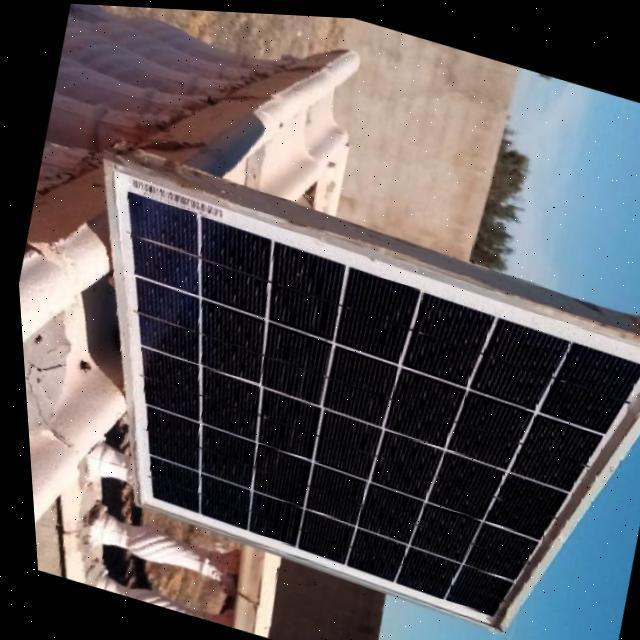Normal Solar Panel: (17, 154, 640, 640)
